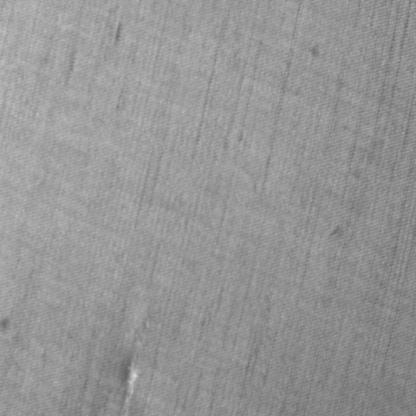thread error: (116, 339, 146, 413)
